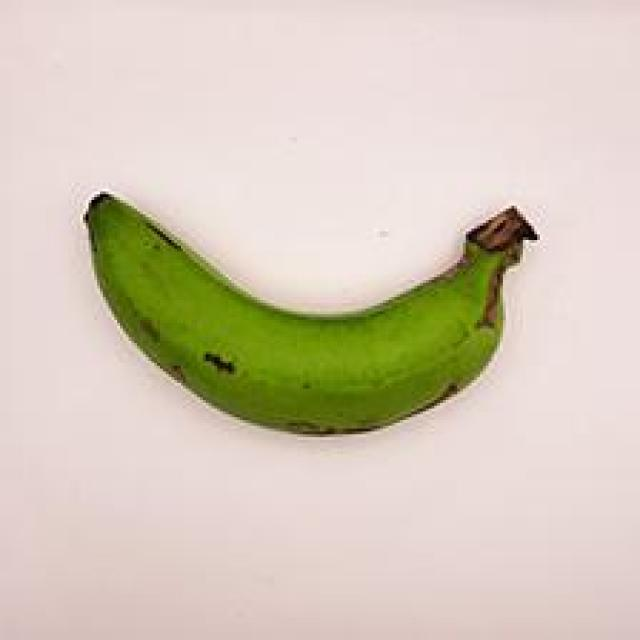Raw: (55, 151, 579, 473)
